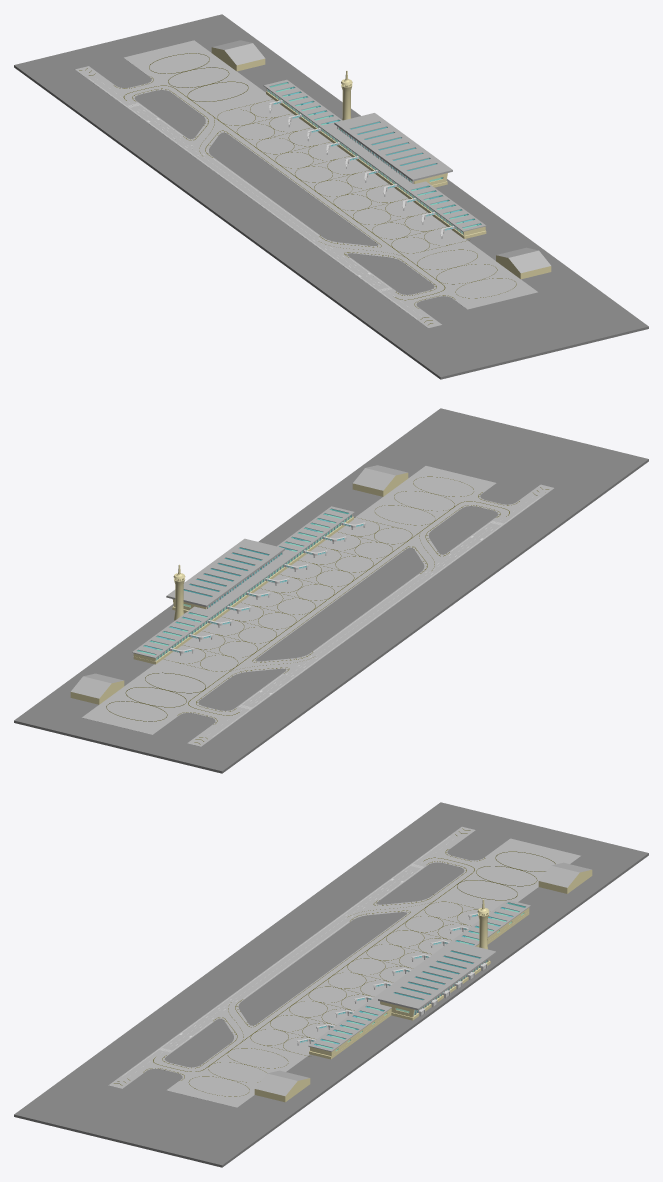
File: airport.glb
3 renders of one model, top to bottom at view 1: azimuth 30°, elevation 25°; view 2: azimuth 150°, elevation 25°; view 3: azimuth 330°, elevation 25°, orthographic.
Parts seen in each view (by area): view 1: ground, runway, ceiliing2, ceiling1, base, warehouse1, warehouse2, bridge, sidesign2; view 2: ground, runway, ceiliing2, ceiling1, base, warehouse1, warehouse2, bridge, sidesign2; view 3: ground, runway, ceiling1, ceiliing2, warehouse1, warehouse2, base, bridge, sidesign2.
Boxes of the visible parts, bbox=[...] form: ground: bbox=[14, 14, 648, 379]; runway: bbox=[75, 40, 537, 328]; ceiliing2: bbox=[263, 79, 486, 231]; ceiling1: bbox=[334, 113, 452, 181]; base: bbox=[266, 88, 486, 238]; warehouse1: bbox=[496, 247, 551, 279]; warehouse2: bbox=[211, 40, 265, 71]; bridge: bbox=[269, 100, 454, 238]; sidesign2: bbox=[89, 78, 416, 318]; ground: bbox=[14, 408, 648, 773]; runway: bbox=[82, 466, 554, 746]; ceiliing2: bbox=[132, 506, 354, 658]; ceiling1: bbox=[166, 538, 284, 607]; base: bbox=[133, 515, 353, 664]; warehouse1: bbox=[352, 465, 408, 496]; warehouse2: bbox=[70, 673, 124, 704]; bridge: bbox=[170, 522, 365, 655]; sidesign2: bbox=[213, 497, 540, 736]; ground: bbox=[14, 802, 648, 1167]; runway: bbox=[108, 826, 580, 1107]; ceiling1: bbox=[378, 941, 496, 1010]; ceiliing2: bbox=[308, 900, 530, 1051]; warehouse1: bbox=[254, 1070, 310, 1102]; warehouse2: bbox=[538, 862, 592, 893]; base: bbox=[309, 908, 529, 1059]; bridge: bbox=[297, 913, 478, 1045]; sidesign2: bbox=[122, 836, 449, 1076].
Bounding box in the file's own units: 12.46 × 3.25 × 44.22.
